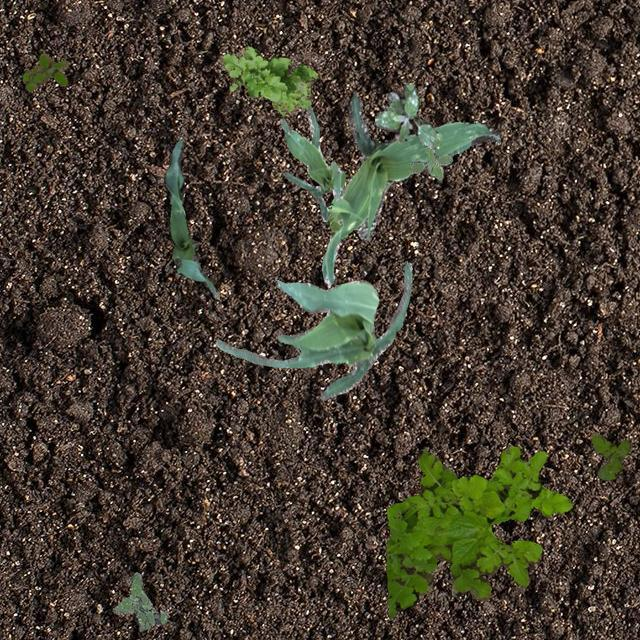crop: (321, 90, 498, 286), (214, 261, 410, 399), (162, 140, 218, 298), (278, 104, 344, 220)
weed: (384, 446, 572, 616), (218, 44, 316, 114), (374, 82, 442, 148), (111, 572, 168, 630), (590, 431, 630, 478), (22, 52, 68, 90), (408, 146, 452, 178)
